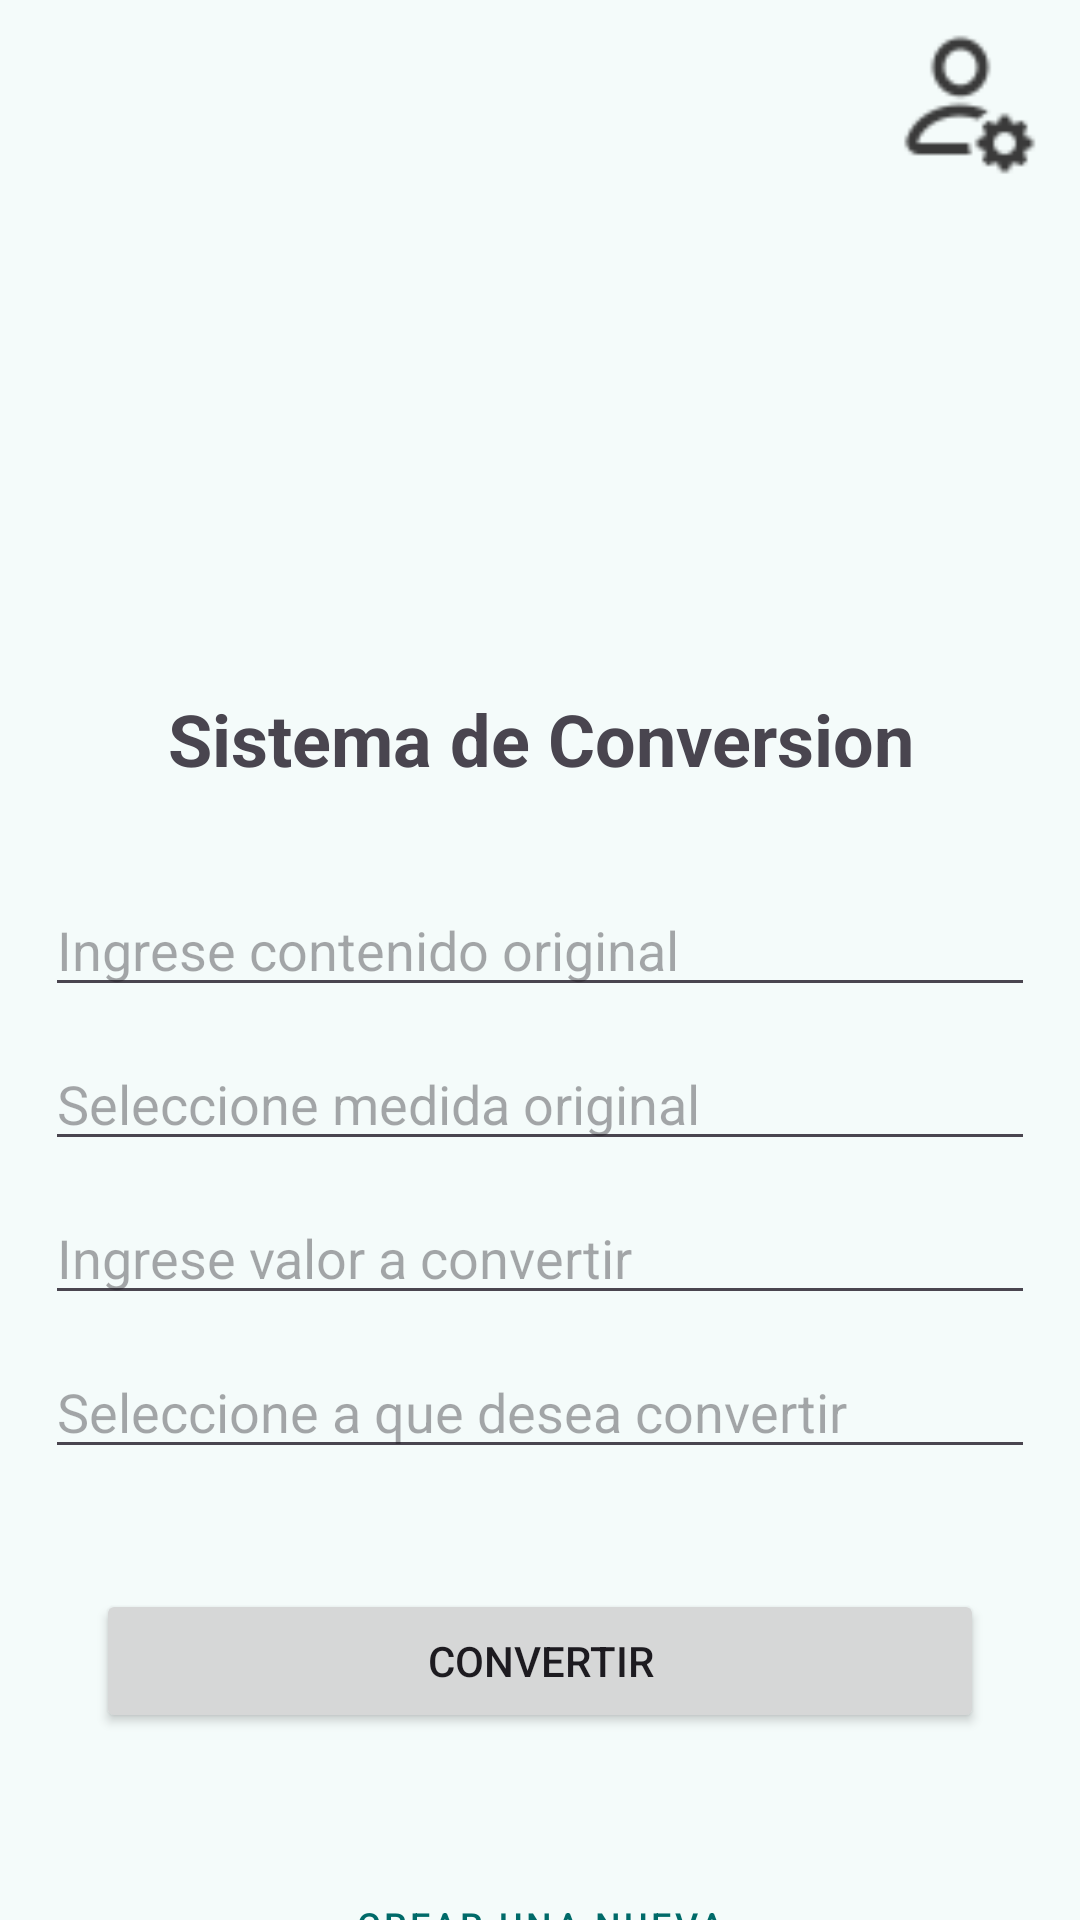

Icons on this 1080px x 1920px Android screen, each with its box as box(x1, y1, x2, y2):
admin settings male: box(904, 36, 1035, 174)
